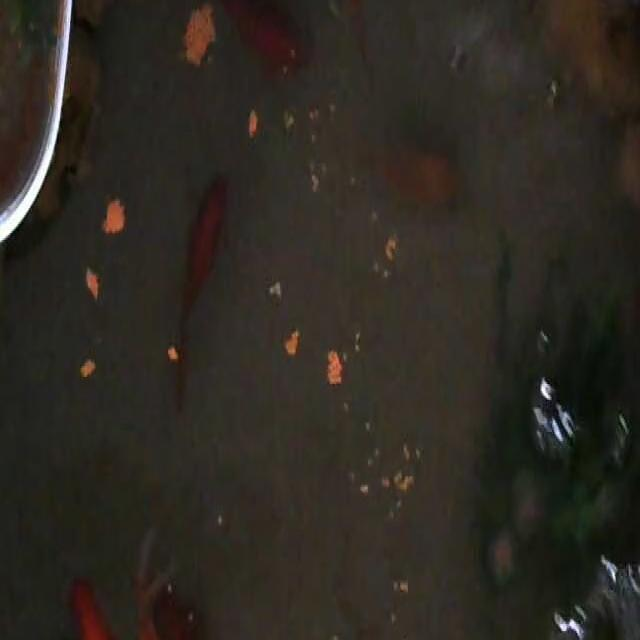fish: (171, 172, 227, 411), (210, 0, 309, 82), (379, 139, 459, 209), (149, 572, 230, 640), (69, 570, 139, 640)
